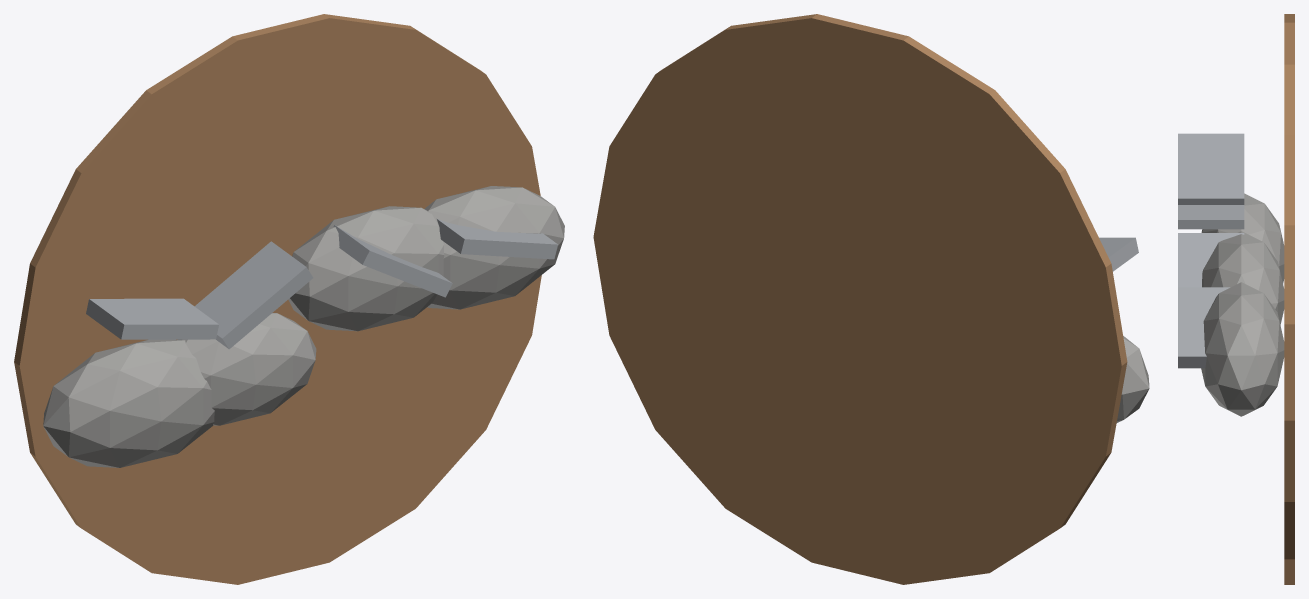
File: 03_ambient_object_cluster.glb
The picture shows the model from 3 angles, left to right: view 1: azimuth 30°, elevation 25°; view 2: azimuth 150°, elevation 25°; view 3: azimuth 270°, elevation 25°; orthographic projection. The views are drawn at different scales.
Visible parts, largest first — view 1: scatter_base, scrap_rock_0, scrap_rock_2, scrap_rock_3, scrap_rock_1, scrap_plate_1, scrap_plate_0, scrap_plate_3, scrap_plate_2; view 2: scatter_base, scrap_rock_0, scrap_plate_0; view 3: scrap_rock_3, scatter_base, scrap_plate_0, scrap_rock_2, scrap_plate_3, scrap_plate_2, scrap_rock_0, scrap_plate_1.
Boxes of the visible parts, left/top/right/bottom form: scatter_base: left=14, top=14, right=541, bottom=584; scrap_rock_0: left=43, top=339, right=214, bottom=467; scrap_rock_2: left=288, top=206, right=444, bottom=331; scrap_rock_3: left=424, top=186, right=564, bottom=309; scrap_rock_1: left=178, top=313, right=316, bottom=425; scrap_plate_1: left=194, top=241, right=313, bottom=349; scrap_plate_0: left=86, top=298, right=218, bottom=339; scrap_plate_3: left=437, top=219, right=557, bottom=259; scrap_plate_2: left=333, top=225, right=452, bottom=297; scatter_base: left=593, top=14, right=1127, bottom=584; scrap_rock_0: left=1116, top=336, right=1149, bottom=422; scrap_plate_0: left=1099, top=237, right=1138, bottom=271; scrap_rock_3: left=1201, top=282, right=1284, bottom=416; scatter_base: left=1284, top=14, right=1294, bottom=584; scrap_plate_0: left=1178, top=133, right=1244, bottom=204; scrap_rock_2: left=1202, top=231, right=1284, bottom=324; scrap_plate_3: left=1178, top=287, right=1230, bottom=368; scrap_plate_2: left=1178, top=233, right=1244, bottom=287; scrap_rock_0: left=1201, top=193, right=1284, bottom=283; scrap_plate_1: left=1178, top=205, right=1244, bottom=229.
Size of the model in its own units: 1.9 by 1.87 by 0.3875.
